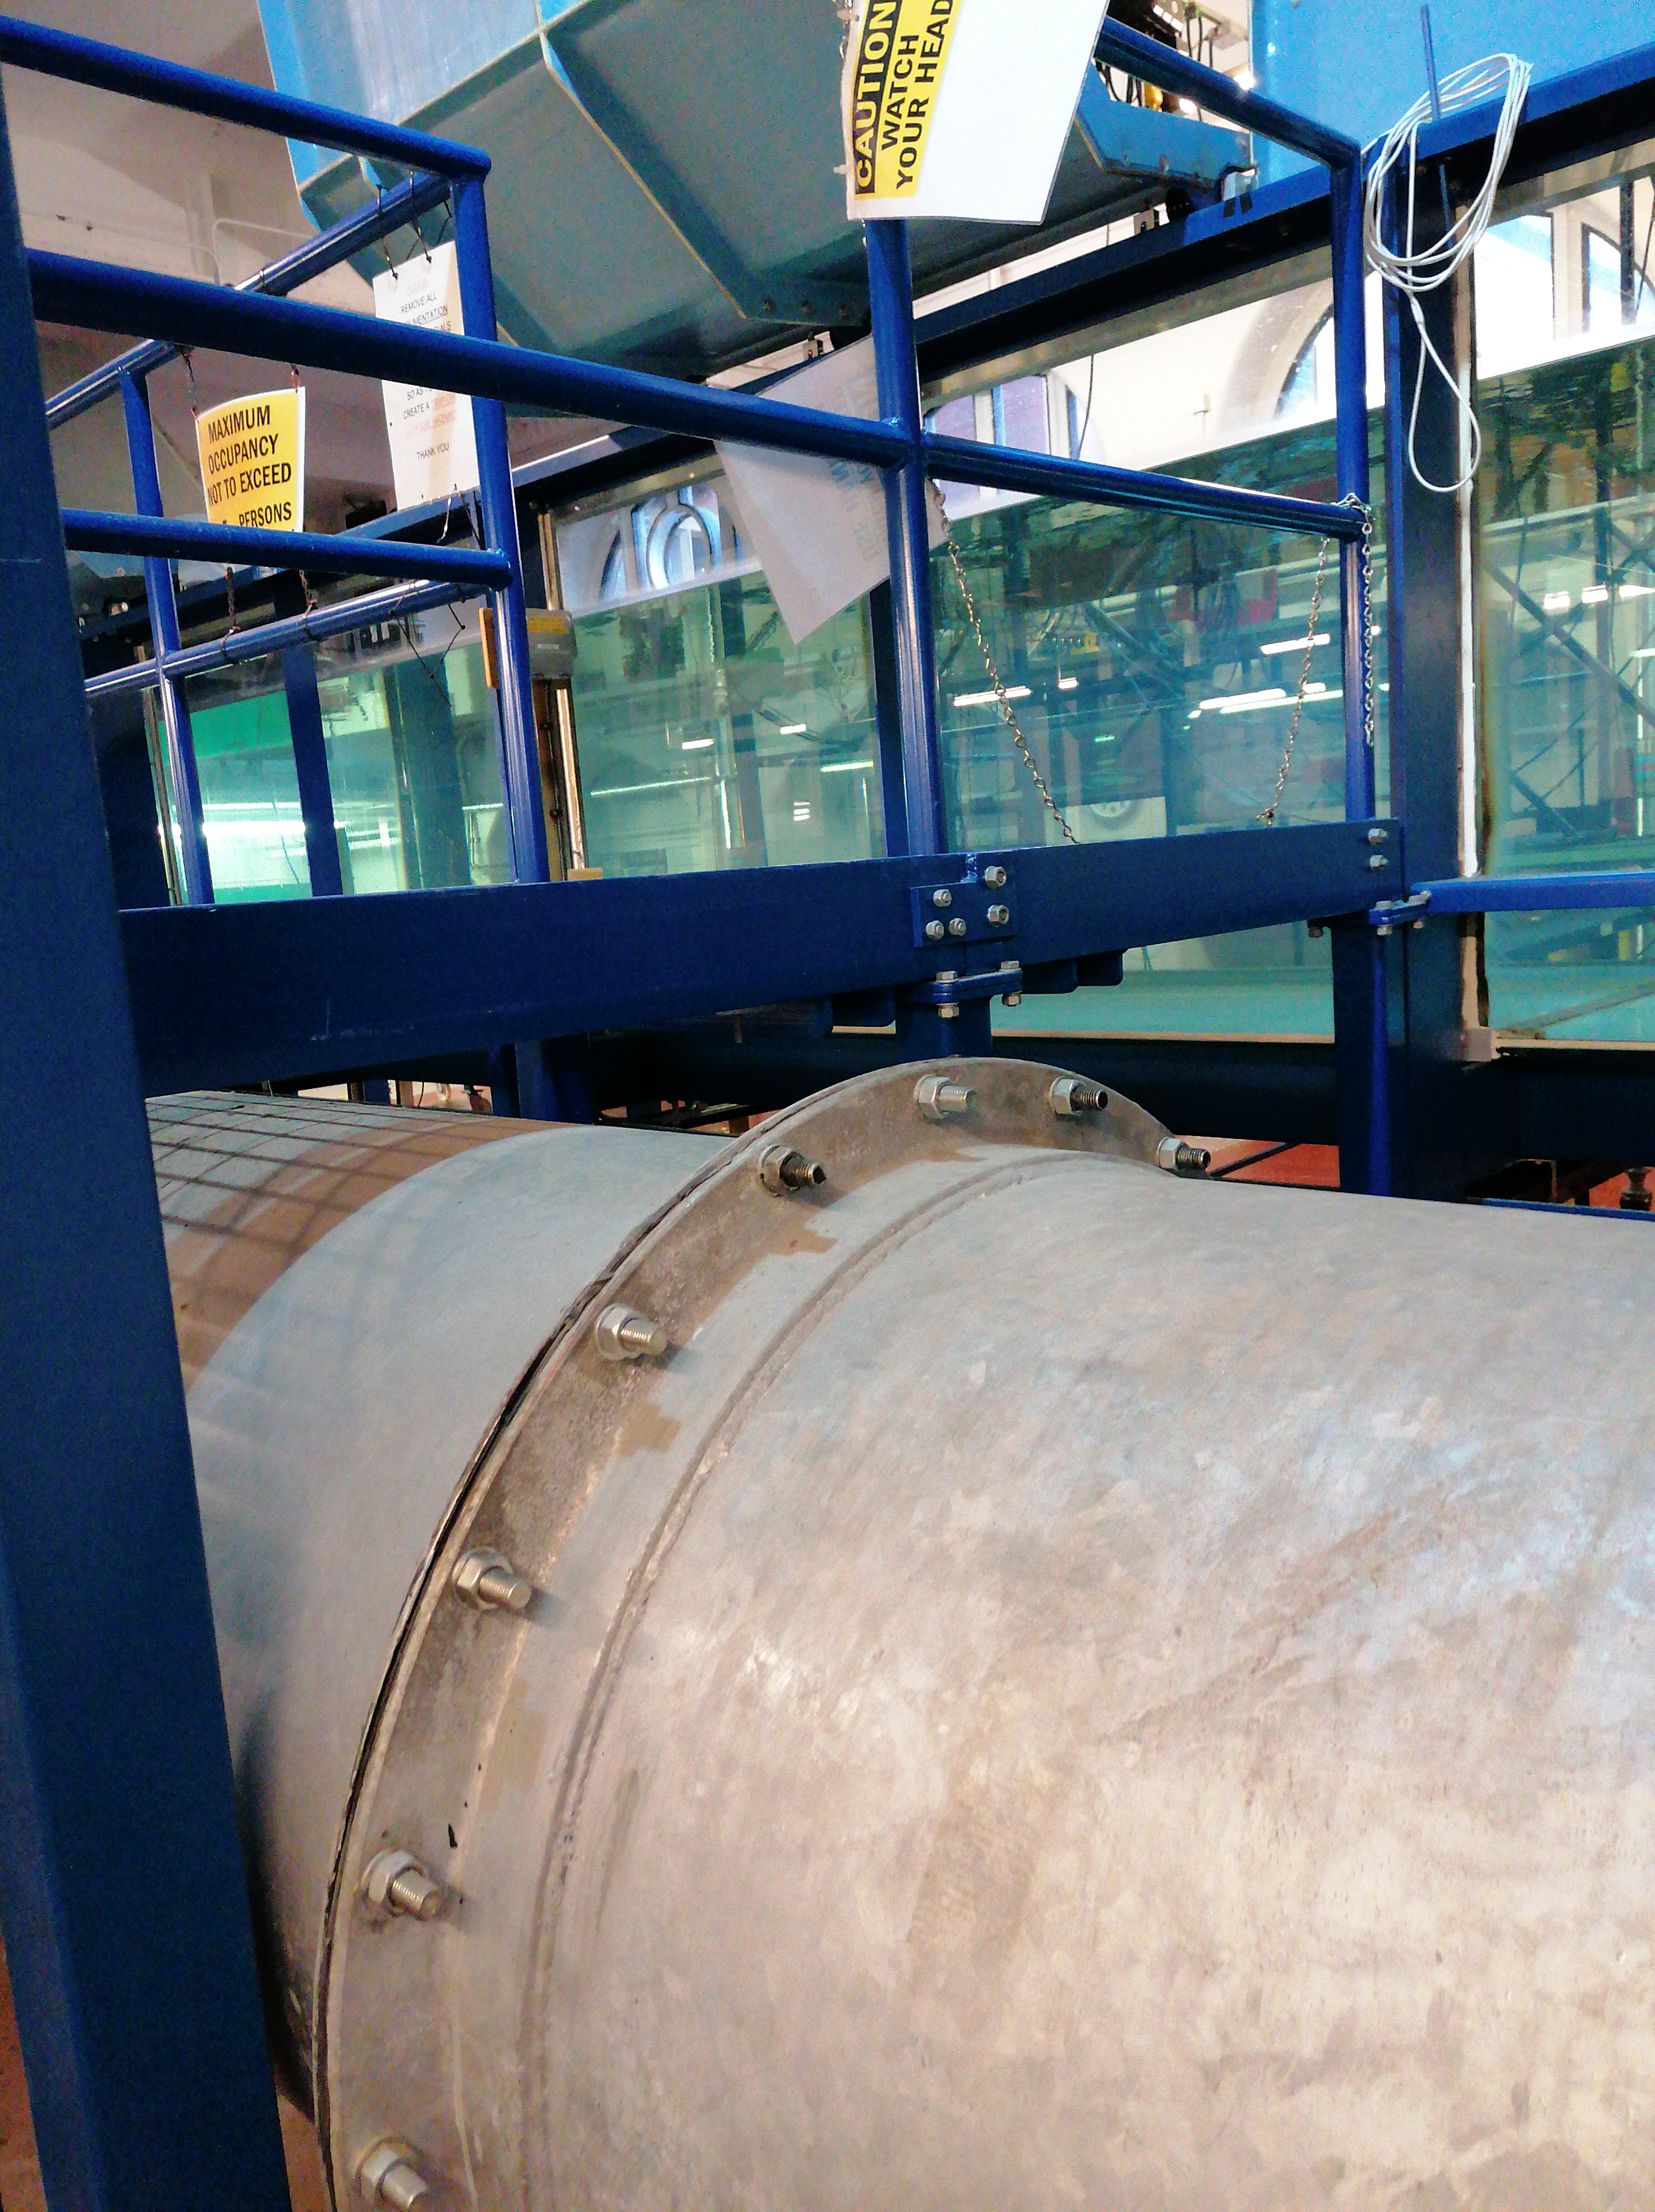bolt: (358, 1847, 449, 1929), (353, 2136, 447, 2210), (450, 1546, 535, 1614), (596, 1300, 675, 1362), (761, 1140, 829, 1197), (913, 1074, 984, 1119), (1052, 1076, 1111, 1123), (1160, 1133, 1213, 1173), (935, 970, 961, 1020), (1000, 959, 1022, 1008), (1373, 898, 1396, 937), (1408, 893, 1431, 931)
nut: (360, 2141, 428, 2205), (369, 1851, 429, 1918), (455, 1550, 513, 1619), (598, 1307, 645, 1362), (765, 1143, 803, 1194), (918, 1074, 953, 1119), (1053, 1076, 1087, 1117), (1161, 1135, 1187, 1173), (984, 865, 1008, 888), (989, 904, 1010, 928), (927, 917, 946, 942), (949, 916, 968, 937), (934, 888, 953, 907), (1368, 853, 1387, 872), (1370, 827, 1389, 844), (1373, 923, 1396, 937), (937, 1008, 960, 1020), (1000, 994, 1022, 1006), (1408, 919, 1427, 931)
